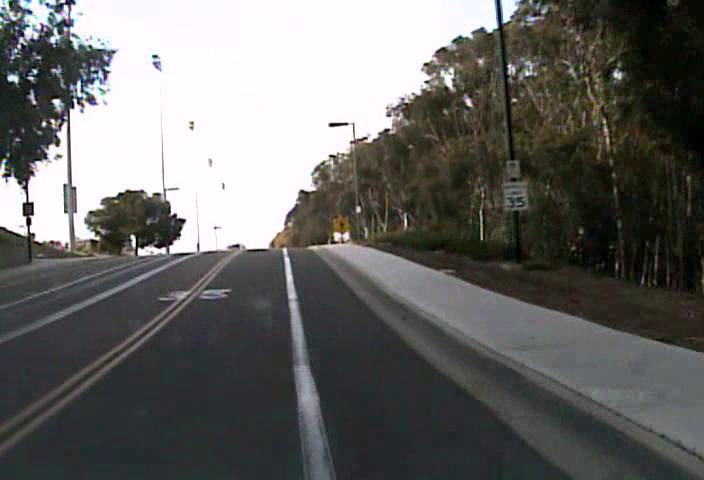speedLimit35: (502, 179, 529, 211)
